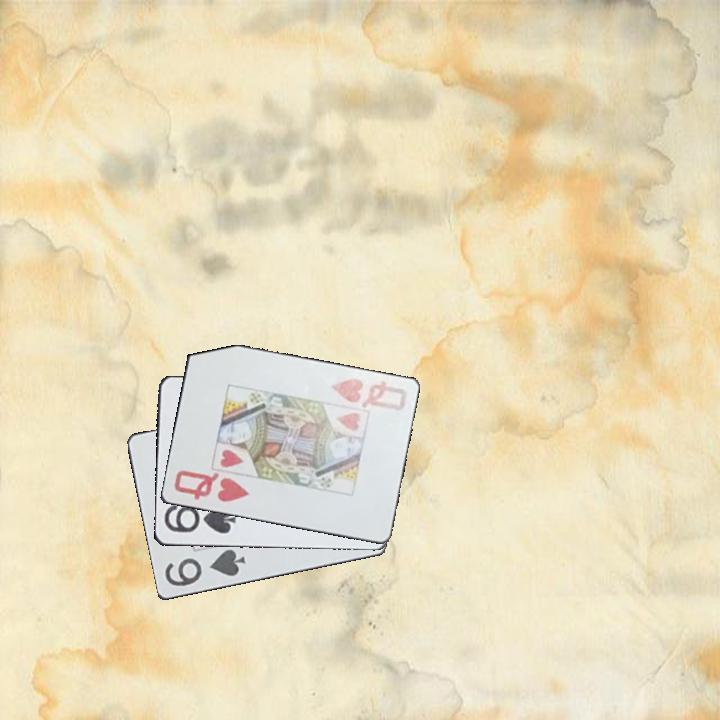6s: (161, 546, 249, 590), (160, 503, 238, 537)
Qh: (327, 375, 410, 414), (170, 466, 252, 505)
